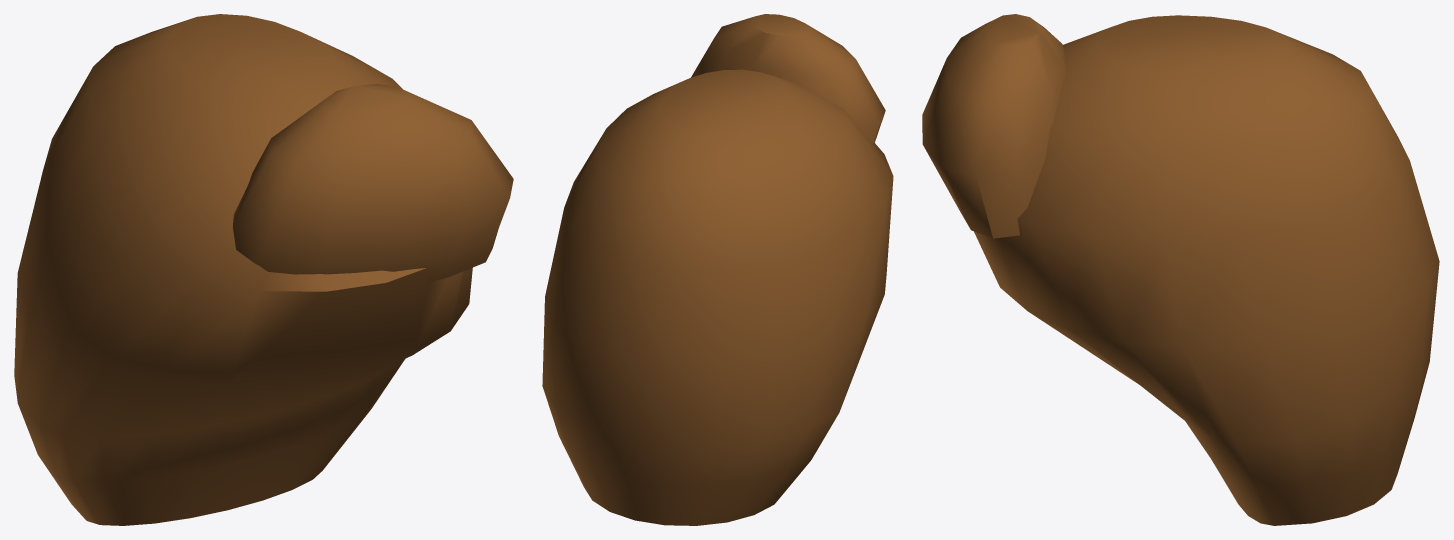
The model's file is npc_hair0.glb.
3 renders of one model, left to right at view 1: azimuth 30°, elevation 25°; view 2: azimuth 150°, elevation 25°; view 3: azimuth 270°, elevation 25°, orthographic. The views are drawn at different scales.
Visible parts, largest first — view 1: npc_hair0; view 2: npc_hair0; view 3: npc_hair0.
Part boxes in pixels (x1,y1,x2,y2): npc_hair0: (14, 14, 513, 525); npc_hair0: (542, 14, 893, 525); npc_hair0: (922, 14, 1439, 525).
Size of the model in its own units: 0.162 by 0.202 by 0.2096.
